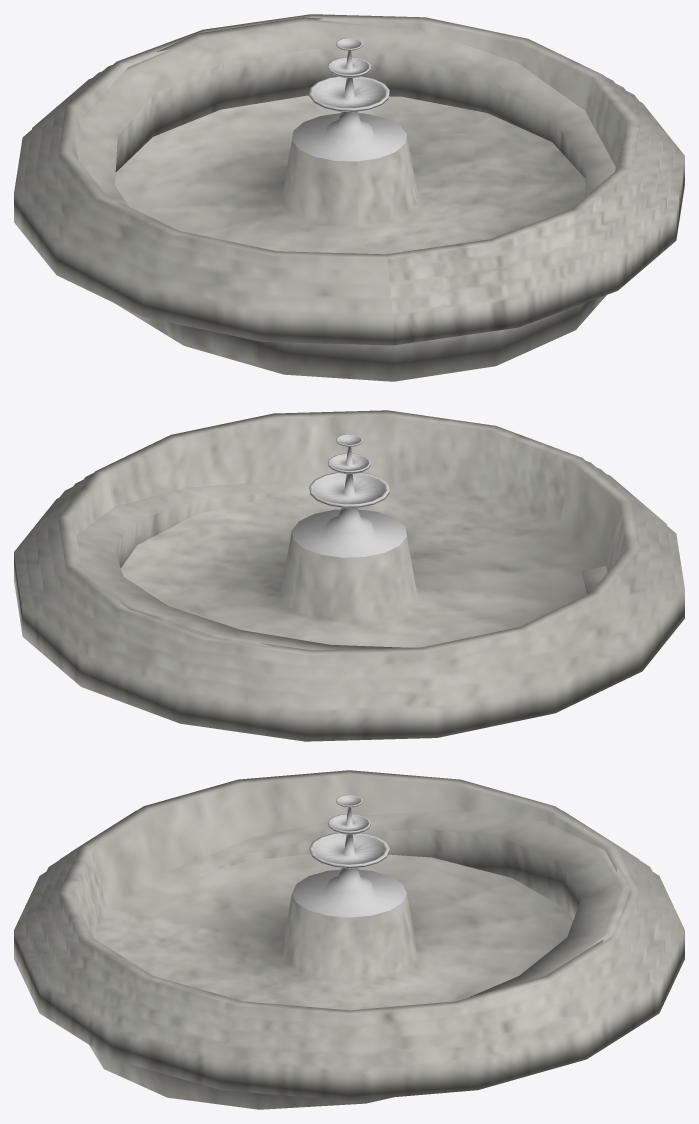
The model's file is Fountainblend.fbx.
3 renders of one model, top to bottom at view 1: azimuth 30°, elevation 25°; view 2: azimuth 150°, elevation 25°; view 3: azimuth 270°, elevation 25°, orthographic.
Parts seen in each view (by area): view 1: Cylinder; view 2: Cylinder; view 3: Cylinder.
Boxes of the visible parts, x1,y1,x2,y2 form: Cylinder: (14, 14, 684, 381); Cylinder: (14, 410, 684, 741); Cylinder: (14, 770, 684, 1109).
Bounding box in the file's own units: 2.31 × 0.8461 × 2.31.
2 materials, 1 textured.
